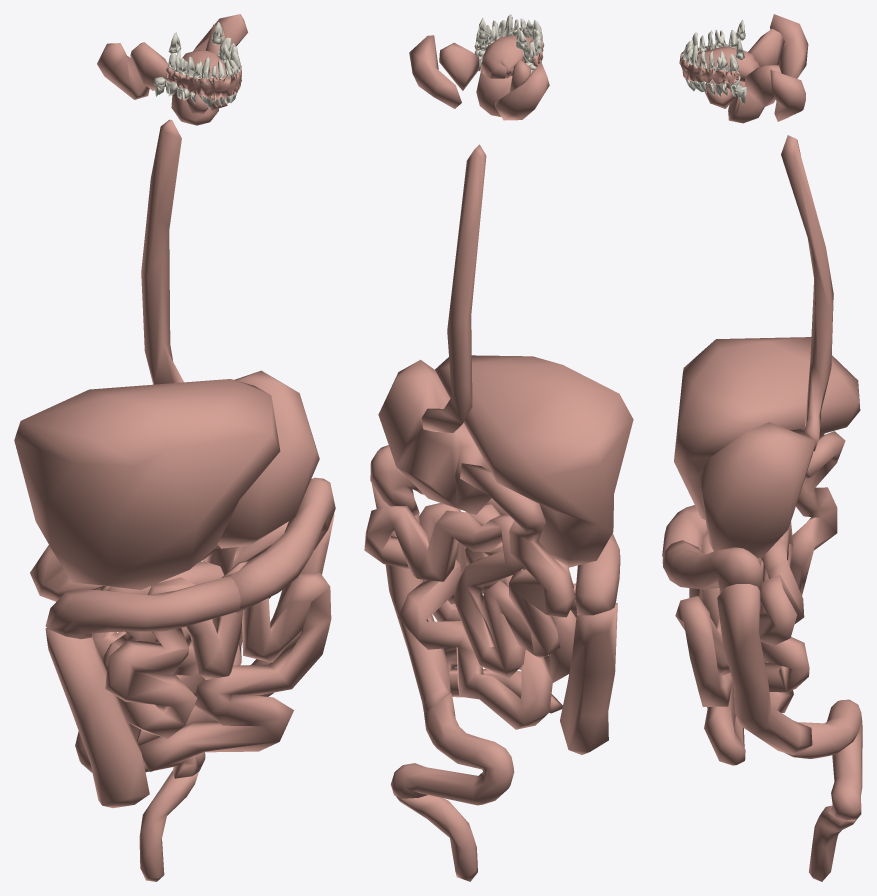
Rendered from pediatric_adolescent_female.digestive.LOD3.glb.
The picture shows the model from 3 angles, left to right: view 1: azimuth 30°, elevation 25°; view 2: azimuth 150°, elevation 25°; view 3: azimuth 270°, elevation 25°; orthographic projection. The views are drawn at different scales.
Parts seen in each view (by area): view 1: PEDIATRIC.ADOLESCENT.FEMALE.DIGESTIVE.LIVER, PEDIATRIC.ADOLESCENT.FEMALE.DIGESTIVE.SMALL_INTESTINE_WALL, PEDIATRIC.ADOLESCENT.FEMALE.DIGESTIVE.TRANSVERSE_COLON_WALL. (×2), PEDIATRIC.ADOLESCENT.FEMALE.DIGESTIVE.ASCENDING_COLON_WALL, PEDIATRIC.ADOLESCENT.FEMALE.DIGESTIVE.STOMACH_WALL, PEDIATRIC.ADOLESCENT.FEMALE.DIGESTIVE.OESOPHAGUS_WALL, PEDIATRIC.ADOLESCENT.FEMALE.DIGESTIVE.SALIVARY_GLANDS.R, PEDIATRIC.ADOLESCENT.FEMALE.DIGESTIVE.RECTUM_WALL, PEDIATRIC.ADOLESCENT.FEMALE.DIGESTIVE.PERMANENT_CEMENTUM, PEDIATRIC.ADOLESCENT.FEMALE.DIGESTIVE.ORAL_MUCOSA_LIP_AND_CH, PEDIATRIC.ADOLESCENT.FEMALE.DIGESTIVE.SALIVARY_GLANDS.L, PEDIATRIC.ADOLESCENT.FEMALE.DIGESTIVE.SIGMOID_COLON_WALL (+2 smaller); view 2: PEDIATRIC.ADOLESCENT.FEMALE.DIGESTIVE.SMALL_INTESTINE_WALL, PEDIATRIC.ADOLESCENT.FEMALE.DIGESTIVE.LIVER, PEDIATRIC.ADOLESCENT.FEMALE.DIGESTIVE.STOMACH_WALL, PEDIATRIC.ADOLESCENT.FEMALE.DIGESTIVE.SIGMOID_COLON_WALL, PEDIATRIC.ADOLESCENT.FEMALE.DIGESTIVE.OESOPHAGUS_WALL, PEDIATRIC.ADOLESCENT.FEMALE.DIGESTIVE.ASCENDING_COLON_WALL, PEDIATRIC.ADOLESCENT.FEMALE.DIGESTIVE.TRANSVERSE_COLON_WALL. (×2), PEDIATRIC.ADOLESCENT.FEMALE.DIGESTIVE.DESCENDING_COLON_WALL, PEDIATRIC.ADOLESCENT.FEMALE.DIGESTIVE.SALIVARY_GLANDS.L, PEDIATRIC.ADOLESCENT.FEMALE.DIGESTIVE.RECTUM_WALL, PEDIATRIC.ADOLESCENT.FEMALE.DIGESTIVE.SALIVARY_GLANDS.R, PEDIATRIC.ADOLESCENT.FEMALE.DIGESTIVE.PERMANENT_CEMENTUM (+3 smaller); view 3: PEDIATRIC.ADOLESCENT.FEMALE.DIGESTIVE.SMALL_INTESTINE_WALL, PEDIATRIC.ADOLESCENT.FEMALE.DIGESTIVE.LIVER, PEDIATRIC.ADOLESCENT.FEMALE.DIGESTIVE.STOMACH_WALL, PEDIATRIC.ADOLESCENT.FEMALE.DIGESTIVE.DESCENDING_COLON_WALL, PEDIATRIC.ADOLESCENT.FEMALE.DIGESTIVE.OESOPHAGUS_WALL, PEDIATRIC.ADOLESCENT.FEMALE.DIGESTIVE.TRANSVERSE_COLON_WALL. (×2), PEDIATRIC.ADOLESCENT.FEMALE.DIGESTIVE.SIGMOID_COLON_WALL, PEDIATRIC.ADOLESCENT.FEMALE.DIGESTIVE.SALIVARY_GLANDS.L, PEDIATRIC.ADOLESCENT.FEMALE.DIGESTIVE.SALIVARY_GLANDS.R, PEDIATRIC.ADOLESCENT.FEMALE.DIGESTIVE.RECTUM_WALL, PEDIATRIC.ADOLESCENT.FEMALE.DIGESTIVE.PERMANENT_CEMENTUM, PEDIATRIC.ADOLESCENT.FEMALE.DIGESTIVE.ORAL_MUCOSA_LIP_AND_CH (+2 smaller).
Part boxes in pixels (x1,y1,x2,y2): PEDIATRIC.ADOLESCENT.FEMALE.DIGESTIVE.LIVER: (14,379,280,589); PEDIATRIC.ADOLESCENT.FEMALE.DIGESTIVE.SMALL_INTESTINE_WALL: (30,521,331,771); PEDIATRIC.ADOLESCENT.FEMALE.DIGESTIVE.TRANSVERSE_COLON_WALL. (×2): (45,477,335,639); PEDIATRIC.ADOLESCENT.FEMALE.DIGESTIVE.ASCENDING_COLON_WALL: (45,628,149,808); PEDIATRIC.ADOLESCENT.FEMALE.DIGESTIVE.STOMACH_WALL: (218,370,319,548); PEDIATRIC.ADOLESCENT.FEMALE.DIGESTIVE.OESOPHAGUS_WALL: (141,119,183,384); PEDIATRIC.ADOLESCENT.FEMALE.DIGESTIVE.SALIVARY_GLANDS.R: (97,42,213,115); PEDIATRIC.ADOLESCENT.FEMALE.DIGESTIVE.RECTUM_WALL: (139,770,198,881); PEDIATRIC.ADOLESCENT.FEMALE.DIGESTIVE.PERMANENT_CEMENTUM: (154,22,240,108); PEDIATRIC.ADOLESCENT.FEMALE.DIGESTIVE.ORAL_MUCOSA_LIP_AND_CH: (166,65,241,99); PEDIATRIC.ADOLESCENT.FEMALE.DIGESTIVE.SALIVARY_GLANDS.L: (193,14,247,110); PEDIATRIC.ADOLESCENT.FEMALE.DIGESTIVE.SIGMOID_COLON_WALL: (75,731,205,778); PEDIATRIC.ADOLESCENT.FEMALE.DIGESTIVE.SMALL_INTESTINE_WALL: (364,463,576,729); PEDIATRIC.ADOLESCENT.FEMALE.DIGESTIVE.LIVER: (435,355,633,567); PEDIATRIC.ADOLESCENT.FEMALE.DIGESTIVE.STOMACH_WALL: (378,359,491,514); PEDIATRIC.ADOLESCENT.FEMALE.DIGESTIVE.SIGMOID_COLON_WALL: (390,693,514,805); PEDIATRIC.ADOLESCENT.FEMALE.DIGESTIVE.OESOPHAGUS_WALL: (421,144,486,432); PEDIATRIC.ADOLESCENT.FEMALE.DIGESTIVE.ASCENDING_COLON_WALL: (560,603,617,754); PEDIATRIC.ADOLESCENT.FEMALE.DIGESTIVE.TRANSVERSE_COLON_WALL. (×2): (370,445,620,615); PEDIATRIC.ADOLESCENT.FEMALE.DIGESTIVE.DESCENDING_COLON_WALL: (371,483,450,713); PEDIATRIC.ADOLESCENT.FEMALE.DIGESTIVE.SALIVARY_GLANDS.L: (409,35,478,108); PEDIATRIC.ADOLESCENT.FEMALE.DIGESTIVE.RECTUM_WALL: (396,795,477,881); PEDIATRIC.ADOLESCENT.FEMALE.DIGESTIVE.SALIVARY_GLANDS.R: (495,60,549,120); PEDIATRIC.ADOLESCENT.FEMALE.DIGESTIVE.PERMANENT_CEMENTUM: (476,14,542,73); PEDIATRIC.ADOLESCENT.FEMALE.DIGESTIVE.SMALL_INTESTINE_WALL: (675,431,845,765); PEDIATRIC.ADOLESCENT.FEMALE.DIGESTIVE.LIVER: (674,337,860,519); PEDIATRIC.ADOLESCENT.FEMALE.DIGESTIVE.STOMACH_WALL: (699,422,815,558); PEDIATRIC.ADOLESCENT.FEMALE.DIGESTIVE.DESCENDING_COLON_WALL: (717,584,812,755); PEDIATRIC.ADOLESCENT.FEMALE.DIGESTIVE.OESOPHAGUS_WALL: (781,135,833,451); PEDIATRIC.ADOLESCENT.FEMALE.DIGESTIVE.TRANSVERSE_COLON_WALL. (×2): (662,505,763,595); PEDIATRIC.ADOLESCENT.FEMALE.DIGESTIVE.SIGMOID_COLON_WALL: (785,699,862,820); PEDIATRIC.ADOLESCENT.FEMALE.DIGESTIVE.SALIVARY_GLANDS.L: (704,65,805,121); PEDIATRIC.ADOLESCENT.FEMALE.DIGESTIVE.SALIVARY_GLANDS.R: (705,14,808,87); PEDIATRIC.ADOLESCENT.FEMALE.DIGESTIVE.RECTUM_WALL: (809,805,856,881); PEDIATRIC.ADOLESCENT.FEMALE.DIGESTIVE.PERMANENT_CEMENTUM: (682,20,746,104); PEDIATRIC.ADOLESCENT.FEMALE.DIGESTIVE.ORAL_MUCOSA_LIP_AND_CH: (679,44,739,84).
Size of the model in its own units: 0.2439 by 0.7342 by 0.1564.
